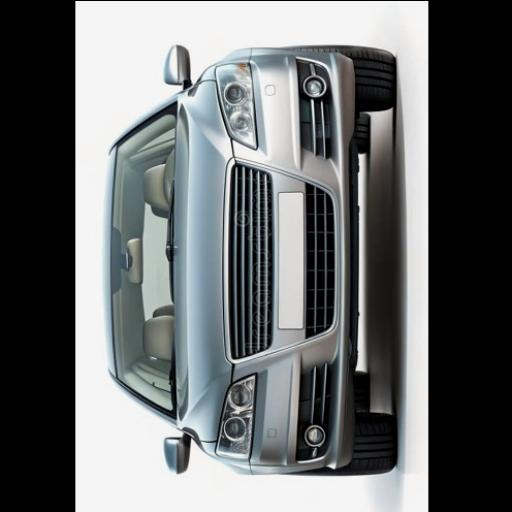sedan: (103, 45, 396, 474)
